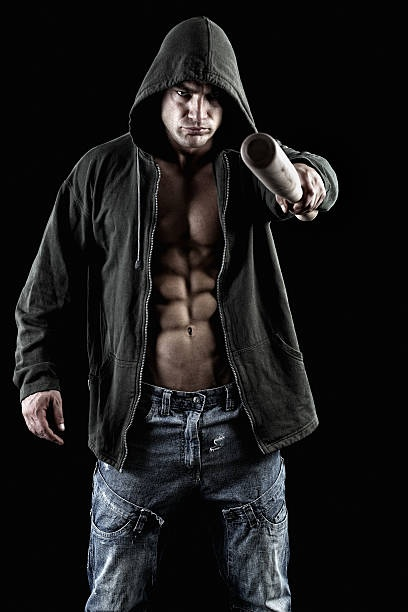bita: (245, 132, 318, 215)
